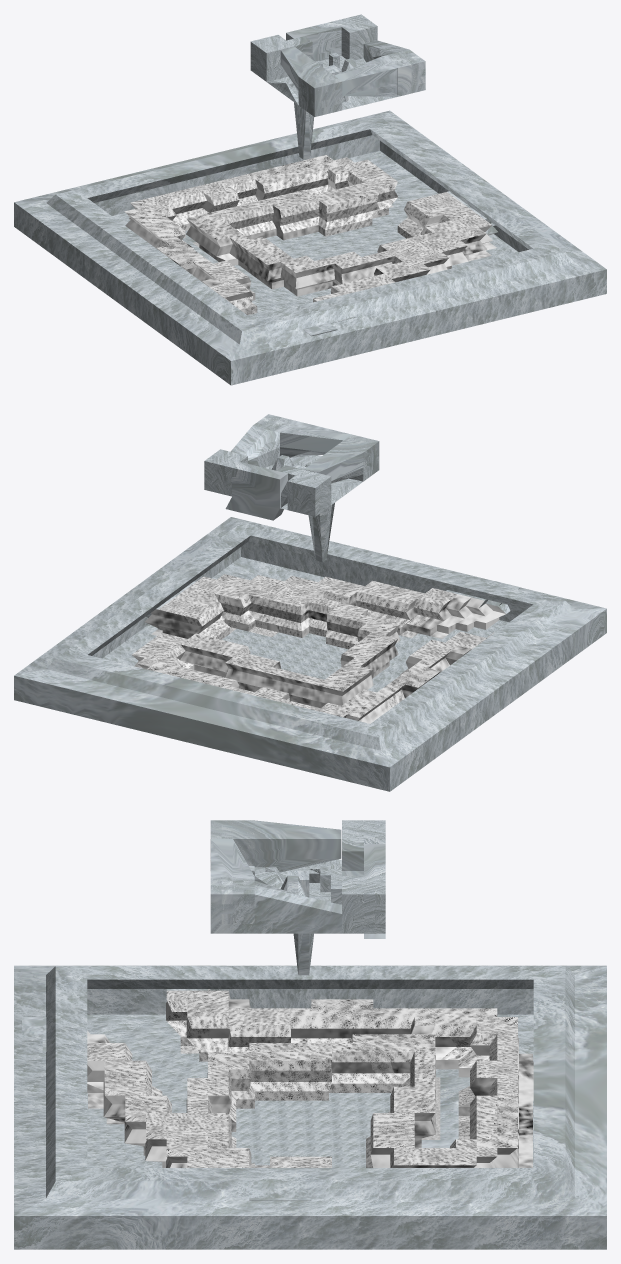
The model's file is FirstLevel.fbx.
3 renders of one model, top to bottom at view 1: azimuth 30°, elevation 25°; view 2: azimuth 150°, elevation 25°; view 3: azimuth 270°, elevation 25°, orthographic. The views are drawn at different scales.
Parts seen in each view (by area): view 1: Main Plane, Walls, FirstPlatform; view 2: Main Plane, Walls, FirstPlatform; view 3: Main Plane, Walls, FirstPlatform.
Boxes of the visible parts, x1,y1,x2,y2 form: Main Plane: (14,110,606,385); Walls: (124,155,496,315); FirstPlatform: (250,14,425,159); Main Plane: (14,517,606,791); Walls: (132,574,505,723); FirstPlatform: (204,414,379,562); Main Plane: (14,965,606,1249); Walls: (87,989,533,1167); FirstPlatform: (210,820,385,975).
Size of the model in its own units: 5305 by 2786 by 5305.
